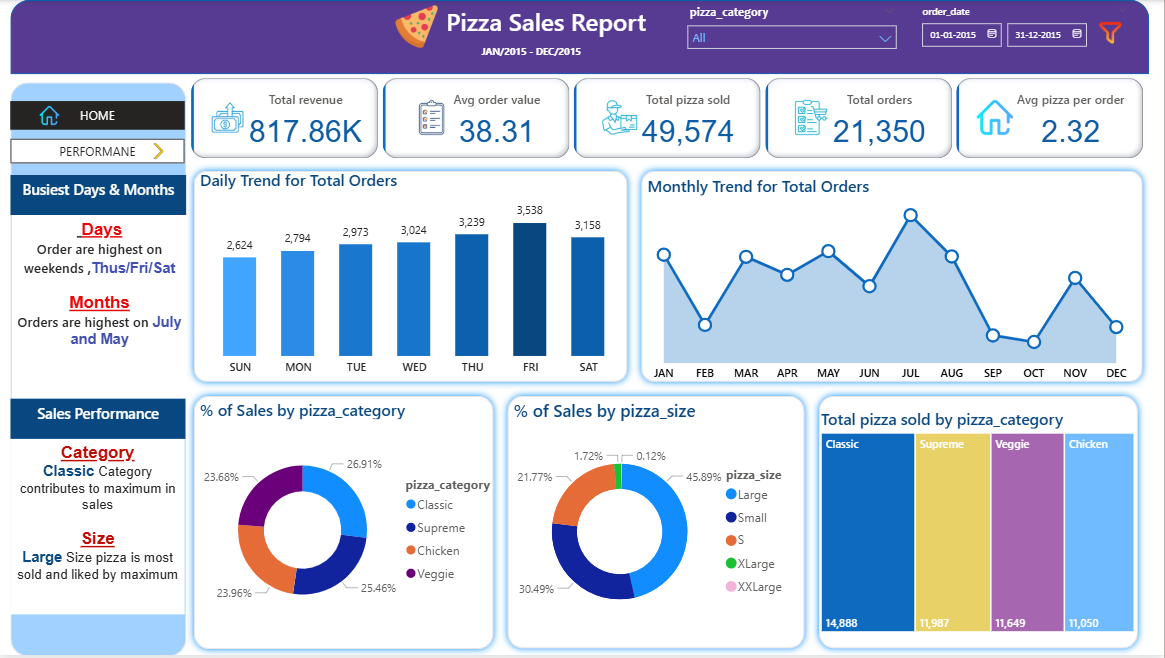

What the dashboard file says about the page in this screenshot:
{"tool":"powerbi","page":{"name":"HOME","canvas":[1280,720],"ordinal":0},"visuals":[{"type":"cardVisual","fields":{"Data":["pizza_sales.Total revenue","pizza_sales.Avg_order_value","pizza_sales.Total_piza_sold","pizza_sales.Total_orders","pizza_sales.Avg_pizza_per_order"]},"box":[207.1,81.4,1057.1,98.6],"z":0},{"type":"shape","box":[207.1,180,491.4,247.1],"z":1},{"type":"shape","box":[14.3,0,1250,81.4],"z":3},{"type":"textbox","box":[487.1,0,260,51.4],"z":4},{"type":"image","box":[420,0,78.6,58.6],"z":5},{"type":"columnChart","title":"Daily Trend for Total Orders","fields":{"Category":["pizza_sales.Order day"],"Y":["pizza_sales.Total orders"]},"box":[217.1,185.7,481.4,235.7],"z":6},{"type":"shape","box":[698.6,180,565.7,247.1],"z":7},{"type":"areaChart","title":"Monthly Trend for Total Orders","fields":{"Category":["pizza_sales.Order month"],"Y":["pizza_sales.Total orders"]},"box":[708.6,191.4,542.9,235.7],"z":8},{"type":"shape","box":[207.2,426.8,344.4,293.7],"z":10},{"type":"shape","box":[892.9,427.1,365.7,292.9],"z":11},{"type":"shape","box":[551.4,427.1,341.4,292.9],"z":12},{"type":"donutChart","title":"% of Sales by pizza_category","fields":{"Category":["pizza_sales.pizza_category"],"Y":["pizza_sales.Total revenue"]},"box":[216.8,437.7,344.4,266.2],"z":13},{"type":"donutChart","title":"% of Sales by pizza_size","fields":{"Category":["pizza_sales.pizza_size"],"Y":["pizza_sales.Total revenue"]},"box":[561.4,437.1,322.9,267.1],"z":14},{"type":"treemap","fields":{"Group":["pizza_sales.pizza_category"],"Values":["pizza_sales.Total pizza sold"]},"box":[892.9,437.1,358.6,265.7],"z":15},{"type":"shape","box":[14.3,90,192.9,630],"z":16},{"type":"slicer","fields":{"Values":["pizza_sales.pizza_category"]},"box":[747.1,0,250,81.4],"z":17},{"type":"slicer","fields":{"Values":["pizza_sales.order_date"]},"box":[1001.4,0,250,81.4],"z":18},{"type":"textbox","box":[525.7,41.4,155.7,32.9],"z":19},{"type":"textbox","box":[14.3,191.4,192.9,44.3],"z":20},{"type":"textbox","box":[15.7,235.7,192.9,201.4],"z":21},{"type":"textbox","box":[14.3,481.4,191.4,192.9],"z":22},{"type":"textbox","box":[14.3,437.1,192,44.3],"z":23},{"type":"pageNavigator","box":[14.3,111.4,191.4,31.4],"z":24},{"type":"pageNavigator","box":[14.3,152.9,191.4,27.1],"z":25},{"type":"image","box":[1191.4,14.3,60,44.3],"z":26},{"type":"image","box":[0,111.4,112.9,31.4],"z":27},{"type":"image","box":[147.1,152.9,58.6,27.1],"z":28}]}

Visuals, with their boxes in screenshot pixels (x1, y1, x2, y2), scaled from the page's 1280x720 canvas onto the 1165x658 screenshot:
cardVisual - pizza_sales.Total revenue x pizza_sales.Avg_order_value: left=188, top=74, right=1151, bottom=164
shape: left=188, top=164, right=636, bottom=390
shape: left=13, top=0, right=1151, bottom=74
textbox: left=443, top=0, right=680, bottom=47
image: left=382, top=0, right=454, bottom=54
"Daily Trend for Total Orders" columnChart: left=198, top=170, right=636, bottom=385
shape: left=636, top=164, right=1151, bottom=390
"Monthly Trend for Total Orders" areaChart: left=645, top=175, right=1139, bottom=390
shape: left=189, top=390, right=502, bottom=657
shape: left=813, top=390, right=1146, bottom=657
shape: left=502, top=390, right=813, bottom=657
"% of Sales by pizza_category" donutChart: left=197, top=400, right=511, bottom=643
"% of Sales by pizza_size" donutChart: left=511, top=399, right=805, bottom=644
treemap - pizza_sales.pizza_category x pizza_sales.Total pizza sold: left=813, top=399, right=1139, bottom=642
shape: left=13, top=82, right=189, bottom=657
slicer - pizza_sales.pizza_category: left=680, top=0, right=908, bottom=74
slicer - pizza_sales.order_date: left=911, top=0, right=1139, bottom=74
textbox: left=478, top=38, right=620, bottom=68
textbox: left=13, top=175, right=189, bottom=215
textbox: left=14, top=215, right=190, bottom=399
textbox: left=13, top=440, right=187, bottom=616
textbox: left=13, top=399, right=188, bottom=440
pageNavigator: left=13, top=102, right=187, bottom=131
pageNavigator: left=13, top=140, right=187, bottom=164
image: left=1084, top=13, right=1139, bottom=54
image: left=0, top=102, right=103, bottom=131
image: left=134, top=140, right=187, bottom=164
